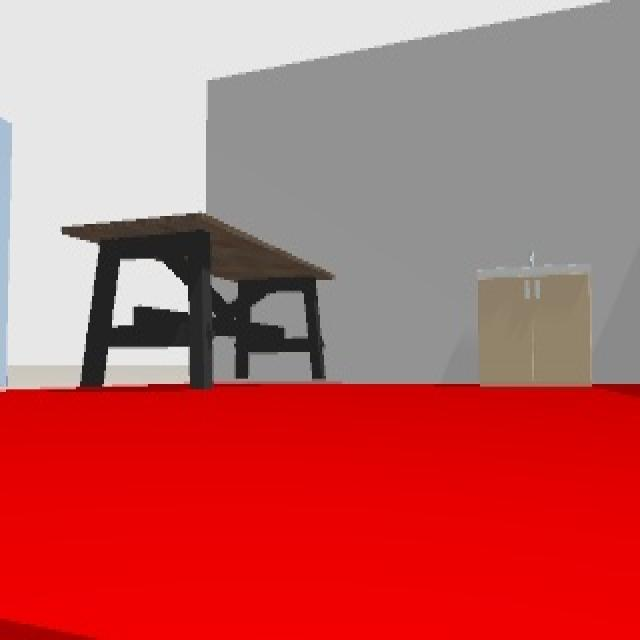dining: (63, 212, 333, 385)
